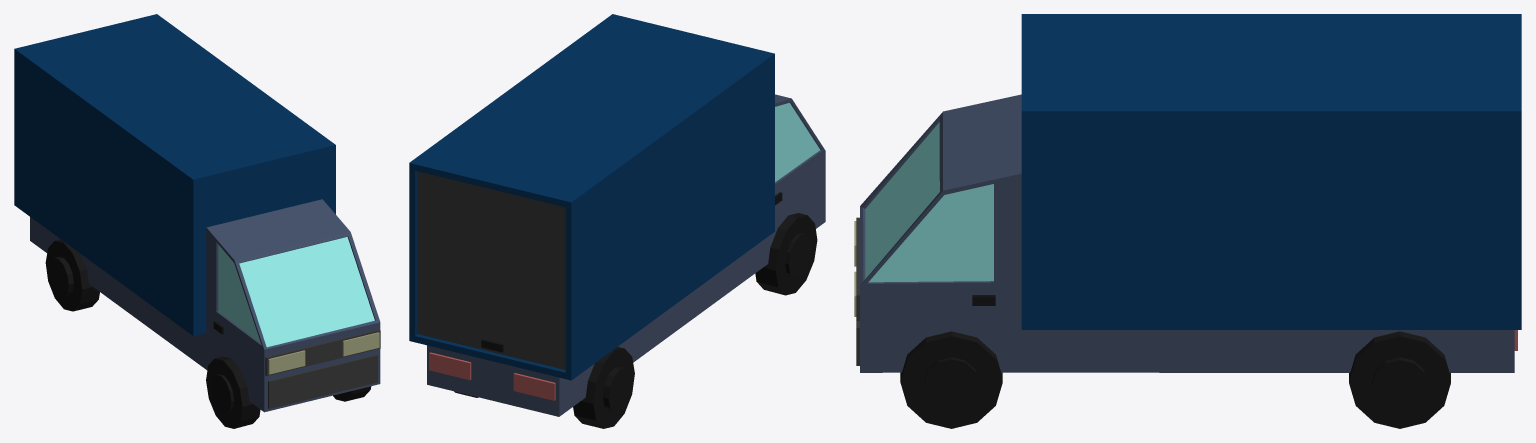
File: Truck.fbx
3 views of the same model, side by side, from view 1: azimuth 30°, elevation 25°; view 2: azimuth 150°, elevation 25°; view 3: azimuth 270°, elevation 25° (orthographic). The views are drawn at different scales.
Parts seen in each view (by area): view 1: Storage, Truck, Grill, Wheel2, Wheel3, Grill1, WheelOut3, WheelOut2, HeadLight, HeadLight2; view 2: Storage, Truck, Wheel2, Wheel3, WheelOut3, WheelOut2, TailLight, TailLight1; view 3: Storage, Truck, Wheel, Wheel1, WheelOut1, WheelOut.
Part boxes in pixels (box(x1,y1,x2,y2)): Storage: box(14, 14, 335, 335); Truck: box(30, 199, 380, 412); Grill: box(268, 354, 377, 408); Wheel2: box(206, 356, 260, 428); Wheel3: box(45, 239, 99, 311); Grill1: box(265, 329, 380, 376); WheelOut3: box(48, 257, 73, 296); WheelOut2: box(211, 374, 234, 413); HeadLight: box(268, 350, 305, 374); HeadLight2: box(342, 332, 379, 356); Storage: box(409, 14, 774, 380); Truck: box(427, 94, 825, 416); Wheel2: box(755, 213, 817, 295); Wheel3: box(573, 347, 634, 428); WheelOut3: box(603, 366, 631, 411); WheelOut2: box(785, 233, 811, 277); TailLight: box(513, 373, 555, 400); TailLight1: box(429, 352, 471, 380); Storage: box(1021, 14, 1521, 329); Truck: box(860, 94, 1514, 372); Wheel: box(900, 331, 1002, 428); Wheel1: box(1349, 331, 1450, 428); WheelOut1: box(1372, 357, 1427, 410); WheelOut: box(923, 357, 979, 409).
Bounding box in the file's own units: 222 × 342 × 643.
